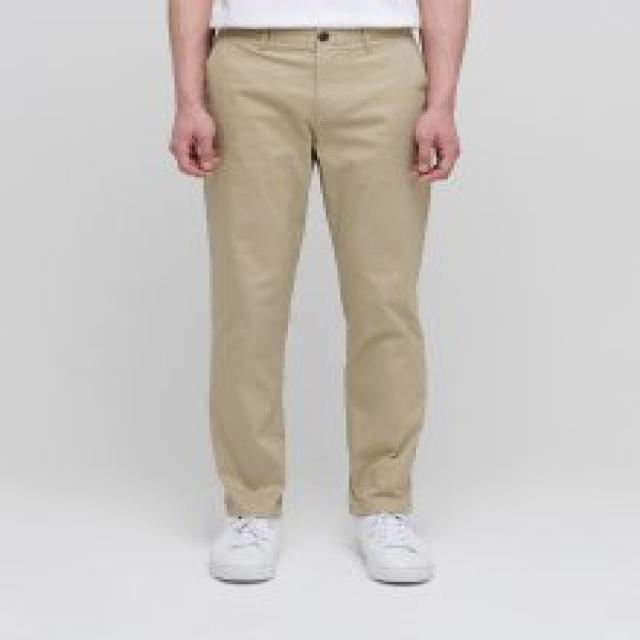long-pants: (201, 26, 430, 520)
